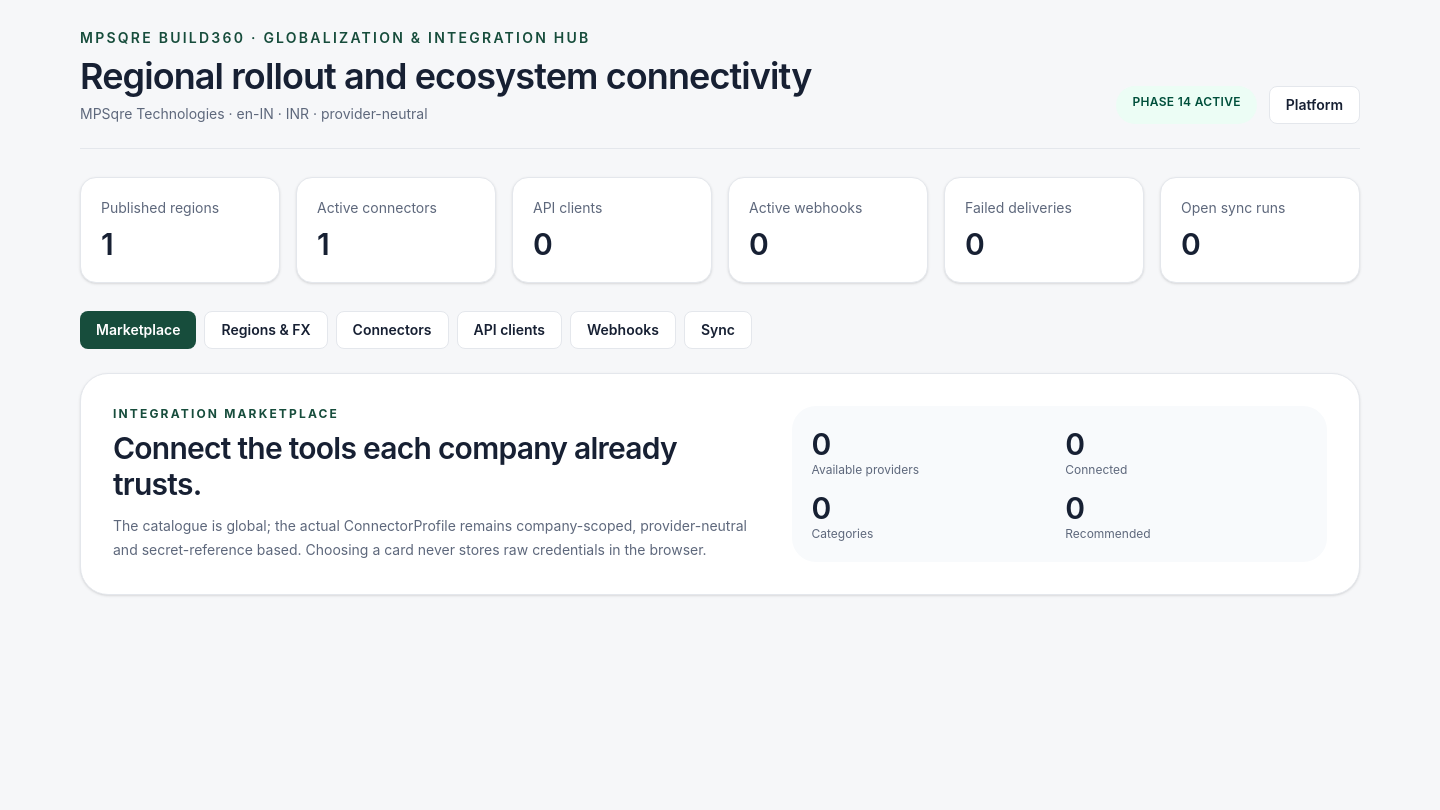
Test case: IntegrationWorkspace › shows the governed Phase 14 regional and connector controls
The image size is (1440, 810).
expect the heading "Regional rollout and ecosystem connectivity" is shown: met, box left=80, top=56, right=812, bottom=96
expect the text "Phase 14 active" is shown: met, box left=1116, top=86, right=1257, bottom=124
Click the button "Regions & FX": (266, 330) left=204, top=311, right=328, bottom=349
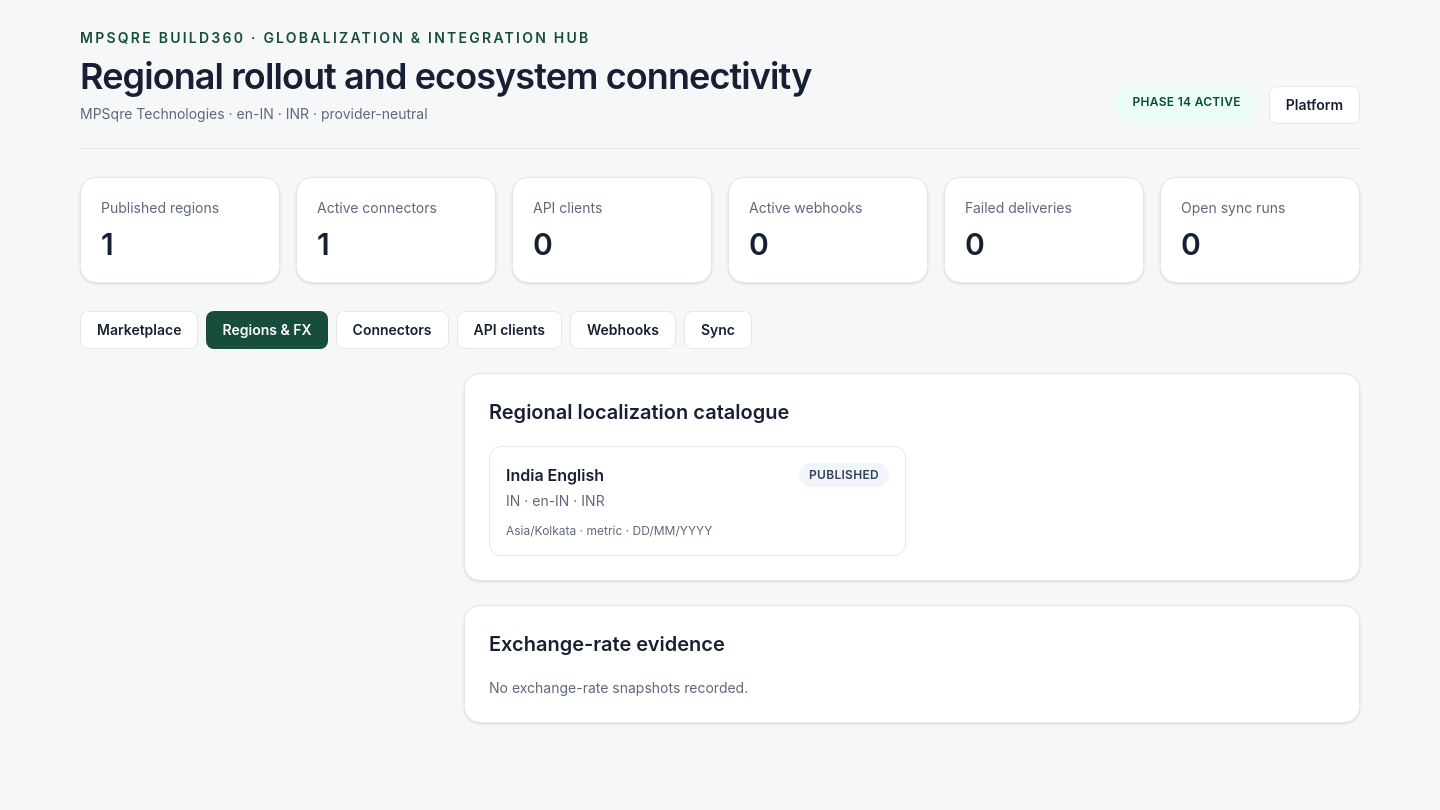
expect the text "India English" is shown: met, box left=506, top=463, right=605, bottom=487
